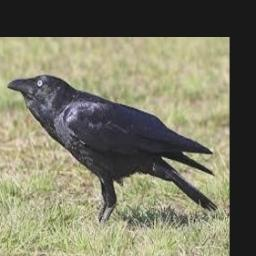Crow: (8, 74, 217, 226)
